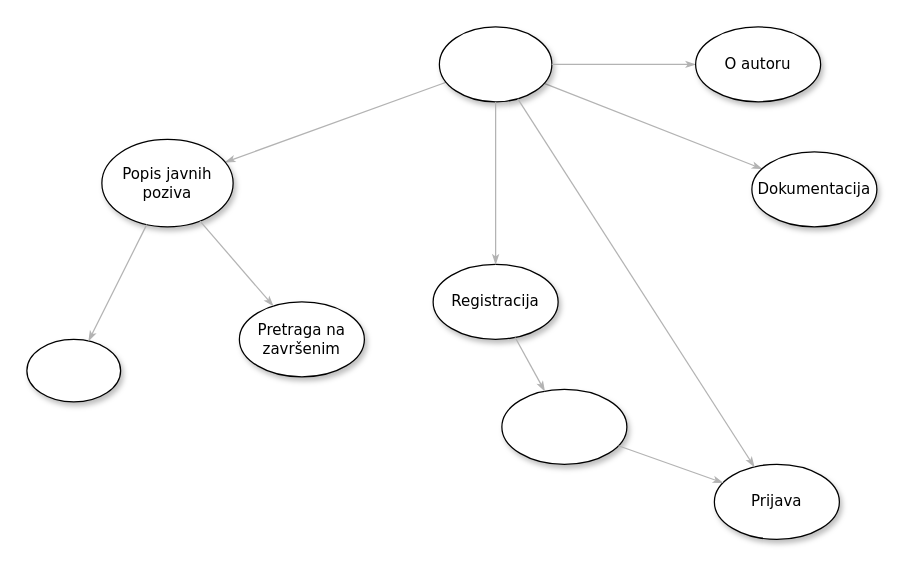
Image size: 906x570. Some labels were removed from this diagram. Each missing label, with the centre of its shape:
"Aktivacija" goes at (565,428).
"Donacija" goes at (74,372).
"Početna stranica" goes at (496,66).
